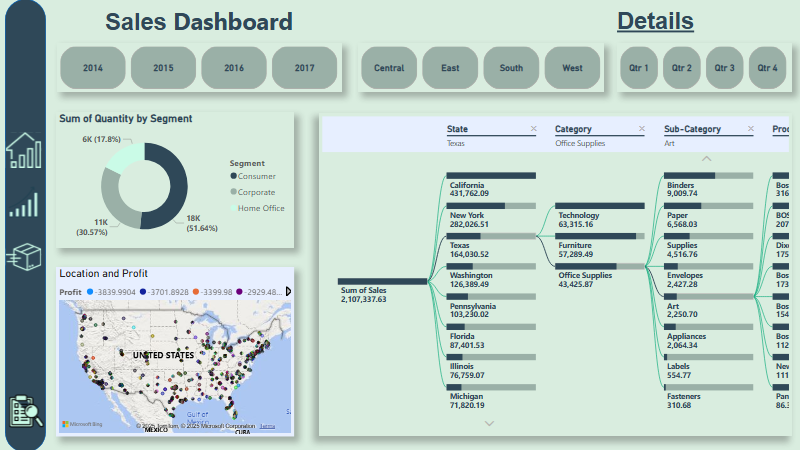

Layout of this report page (visuals, bound fields, positions):
{"tool":"powerbi","page":{"name":"Details","canvas":[1280,720],"ordinal":3},"visuals":[{"type":"decompositionTreeVisual","fields":{"Analyze":["Sum(Query - Orders.Sales)"],"ExplainBy":["Query - Orders.State","Query - Orders.Category","Query - Orders.Sub-Category","Query - Orders.Product Name"]},"box":[508.4,180.7,750.9,512.8],"z":0},{"type":"donutChart","fields":{"Category":["Query - Orders.Segment"],"Y":["Sum(Query - Orders.Quantity)"]},"box":[91.1,179.3,377.6,216],"z":1000},{"type":"map","fields":{"Category":["Query - Orders.Location"],"Series":["Query - Orders.Profit"]},"box":[91.1,424.7,377.6,268.9],"z":2000},{"type":"shape","box":[10,0,65,720],"z":3000},{"type":"actionButton","box":[6.7,278.3,65,88.3],"z":4000},{"type":"actionButton","box":[6.7,195,65,88.3],"z":5000},{"type":"actionButton","box":[11.7,610,65,88.3],"z":6000},{"type":"actionButton","box":[6.7,365,65,88.3],"z":7000},{"type":"textbox","box":[110.2,4.4,415.8,66.1],"z":8000},{"type":"textbox","box":[922,0,240,61.5],"z":9000},{"type":"advancedSlicerVisual","fields":{"Values":["Calender.Date.Variation.Date Hierarchy.Year"]},"box":[91.7,70,451.7,78.3],"z":10000},{"type":"advancedSlicerVisual","fields":{"Values":["Query - Orders.Region"]},"box":[570,70,390,78.3],"z":11000},{"type":"advancedSlicerVisual","fields":{"Values":["Calender.Date.Variation.Date Hierarchy.Quarter"]},"box":[981.7,70,276.7,78.3],"z":12000}]}

Visuals, with their boxes on the page's 1280x720 design canvas (x1, y1, x2, y2). These are canvas units, not pixel positions in the 800x450 screenshot, which may show the page scaled, cropped or inside an application window:
decompositionTreeVisual - Sum(Query - Orders.Sales) x Query - Orders.State: l=508, t=181, r=1259, b=694
donutChart - Query - Orders.Segment x Sum(Query - Orders.Quantity): l=91, t=179, r=469, b=395
map - Query - Orders.Location x Query - Orders.Profit: l=91, t=425, r=469, b=694
shape: l=10, t=0, r=75, b=720
actionButton: l=7, t=278, r=72, b=367
actionButton: l=7, t=195, r=72, b=283
actionButton: l=12, t=610, r=77, b=698
actionButton: l=7, t=365, r=72, b=453
textbox: l=110, t=4, r=526, b=70
textbox: l=922, t=0, r=1162, b=62
advancedSlicerVisual - Calender.Date.Variation.Date Hierarchy.Year: l=92, t=70, r=543, b=148
advancedSlicerVisual - Query - Orders.Region: l=570, t=70, r=960, b=148
advancedSlicerVisual - Calender.Date.Variation.Date Hierarchy.Quarter: l=982, t=70, r=1258, b=148
